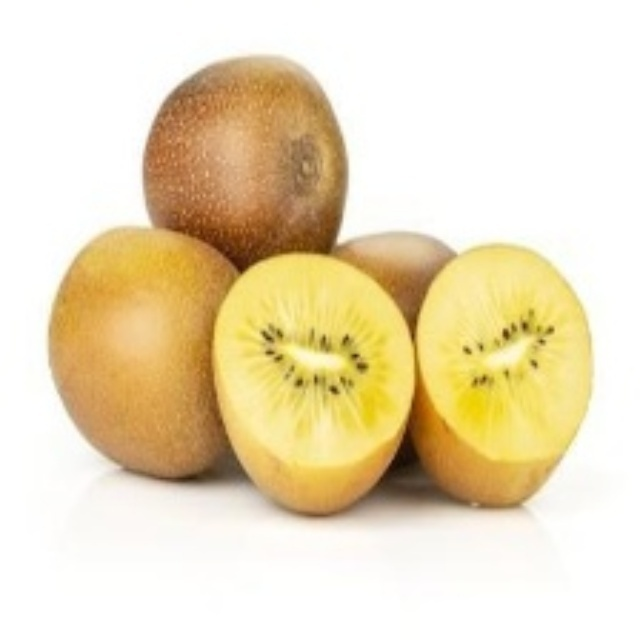kiwi: (209, 252, 425, 528), (47, 213, 241, 486), (416, 235, 588, 509), (146, 53, 355, 263)
